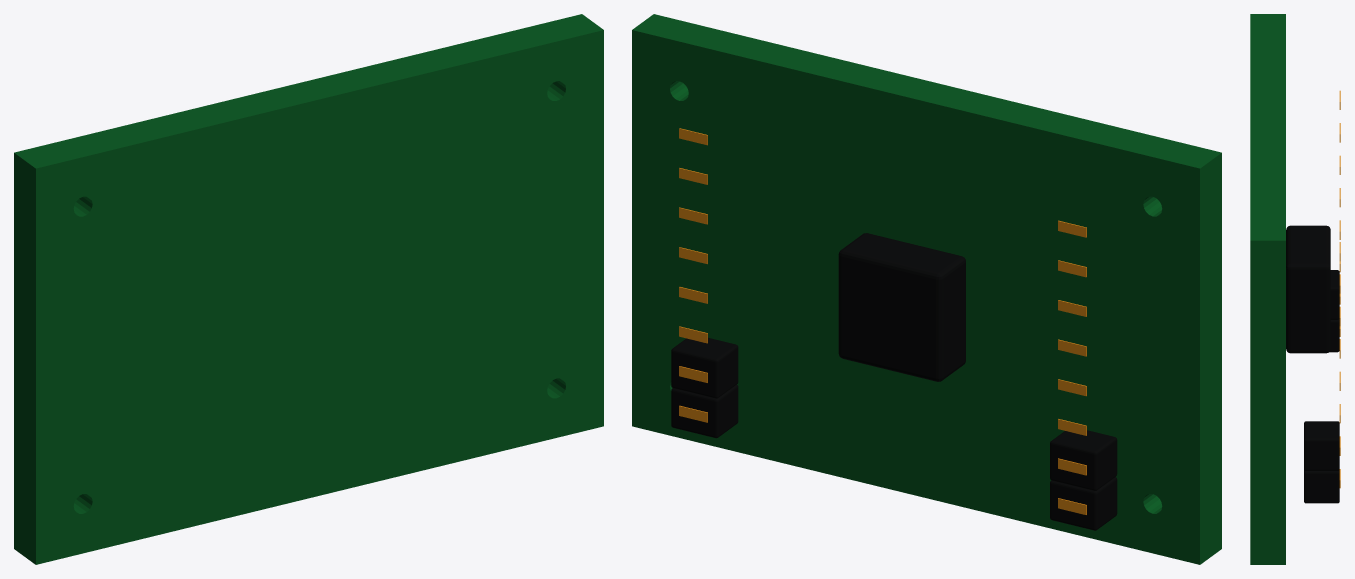
Rendered from kit_controller_16.obj.
The picture shows the model from 3 angles, left to right: view 1: azimuth 30°, elevation 25°; view 2: azimuth 150°, elevation 25°; view 3: azimuth 270°, elevation 25°; orthographic projection. The views are drawn at different scales.
Visible parts, largest first — view 1: kit_controller_16; view 2: kit_controller_16; view 3: kit_controller_16.
Boxes of the visible parts, x1=… form: kit_controller_16: x1=14, y1=14, x2=603, y2=564; kit_controller_16: x1=632, y1=14, x2=1221, y2=564; kit_controller_16: x1=1250, y1=14, x2=1340, y2=564.
Bounding box in the file's own units: 0.12 × 0.08 × 0.0202.
